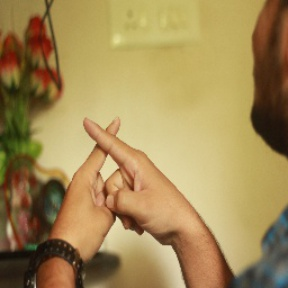X: (63, 109, 150, 203)
